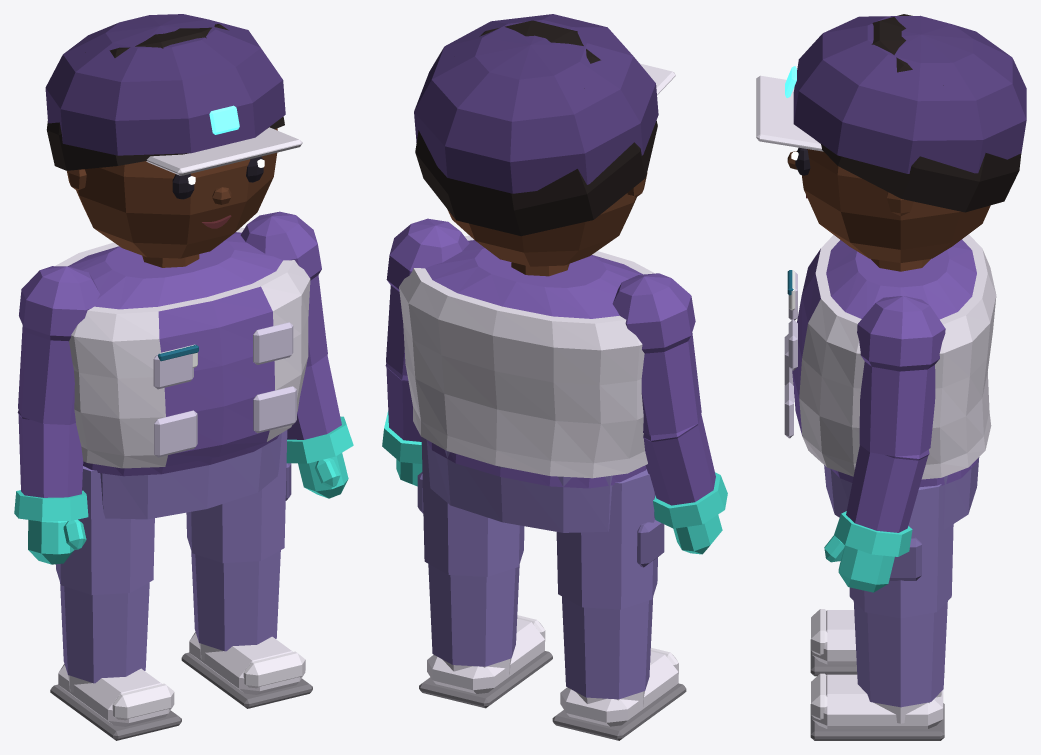
File: auf_aby.glb
3 renders of one model, left to right at view 1: azimuth 30°, elevation 25°; view 2: azimuth 150°, elevation 25°; view 3: azimuth 270°, elevation 25°, orthographic.
Visible parts, largest first — view 1: weste, kopfbedeckung, arm_r, bein_r, bein_l, kopf, torso, arm_l, becken, taschen, schuh_r, schuh_l (+4 smaller); view 2: weste, kopfbedeckung, bein_r, arm_r, bein_l, haare, torso, becken, arm_l, kopf, schuh_r, schuh_l (+1 smaller); view 3: kopfbedeckung, weste, arm_l, bein_l, kopf, torso, haare, schuh_l, schuh_r, becken, hand_l, taschen (+2 smaller).
Part boxes in pixels (x1=…): weste: x1=55, y1=227, x2=310, y2=468; kopfbedeckung: x1=45, y1=14, x2=302, y2=175; arm_r: x1=14, y1=266, x2=99, y2=521; bein_r: x1=55, y1=466, x2=154, y2=683; bein_l: x1=186, y1=430, x2=291, y2=651; kopf: x1=67, y1=128, x2=277, y2=258; torso: x1=67, y1=232, x2=282, y2=476; arm_l: x1=240, y1=211, x2=353, y2=463; becken: x1=100, y1=433, x2=281, y2=519; taschen: x1=153, y1=322, x2=296, y2=457; schuh_r: x1=50, y1=664, x2=181, y2=740; schuh_l: x1=181, y1=632, x2=312, y2=708; weste: x1=399, y1=235, x2=654, y2=478; kopfbedeckung: x1=414, y1=14, x2=675, y2=193; bein_r: x1=556, y1=469, x2=664, y2=699; arm_r: x1=612, y1=273, x2=727, y2=528; bein_l: x1=417, y1=437, x2=524, y2=666; haare: x1=415, y1=20, x2=657, y2=236; torso: x1=425, y1=240, x2=646, y2=488; becken: x1=426, y1=440, x2=612, y2=532; arm_l: x1=382, y1=218, x2=469, y2=463; kopf: x1=447, y1=172, x2=647, y2=266; schuh_r: x1=552, y1=647, x2=686, y2=740; schuh_l: x1=419, y1=615, x2=552, y2=708; kopfbedeckung: x1=756, y1=15, x2=1026, y2=173; weste: x1=792, y1=234, x2=996, y2=479; arm_l: x1=834, y1=296, x2=945, y2=556; bein_l: x1=849, y1=484, x2=953, y2=707; kopf: x1=801, y1=149, x2=990, y2=262; torso: x1=826, y1=239, x2=977, y2=487; haare: x1=817, y1=14, x2=1021, y2=212; schuh_l: x1=810, y1=673, x2=944, y2=740; schuh_r: x1=810, y1=609, x2=944, y2=676; becken: x1=824, y1=457, x2=979, y2=530; hand_l: x1=824, y1=535, x2=894, y2=592; taschen: x1=784, y1=271, x2=797, y2=438.
Size of the model in its own units: 0.0124 by 0.0234 by 0.00866.
